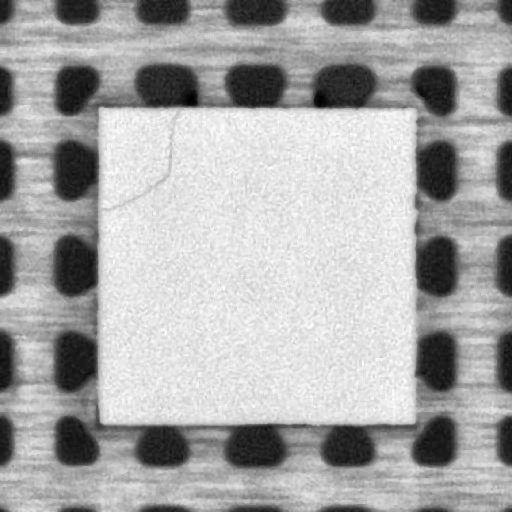DIE_CRACK: (100, 107, 184, 208)
